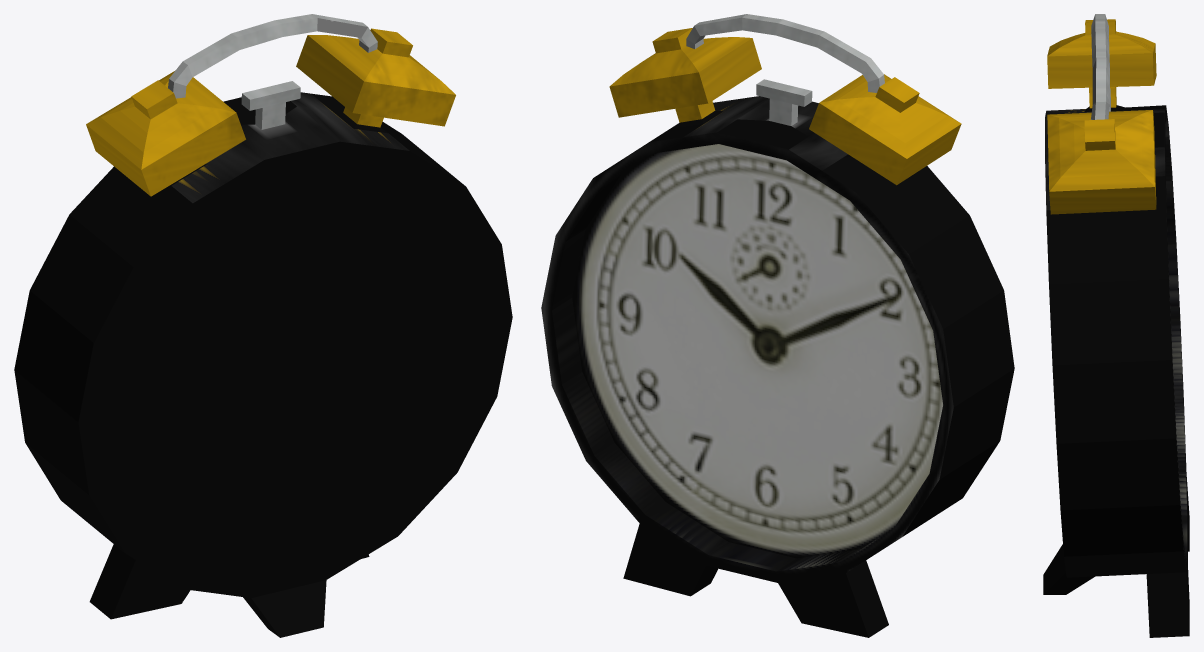
Rendered from novo_relogio_alarme.fbx.
3 renders of one model, left to right at view 1: azimuth 30°, elevation 25°; view 2: azimuth 150°, elevation 25°; view 3: azimuth 270°, elevation 25°, orthographic. The views are drawn at different scales.
Parts seen in each view (by area): view 1: relogio; view 2: relogio; view 3: relogio.
Part boxes in pixels (x1,y1,x2,y2): relogio: [14, 14, 512, 637]; relogio: [541, 14, 1014, 637]; relogio: [1043, 14, 1189, 637].
Bounding box in the file's own units: 0.9686 × 1.25 × 0.3025.
Materials: 4 (3 with a texture image).
